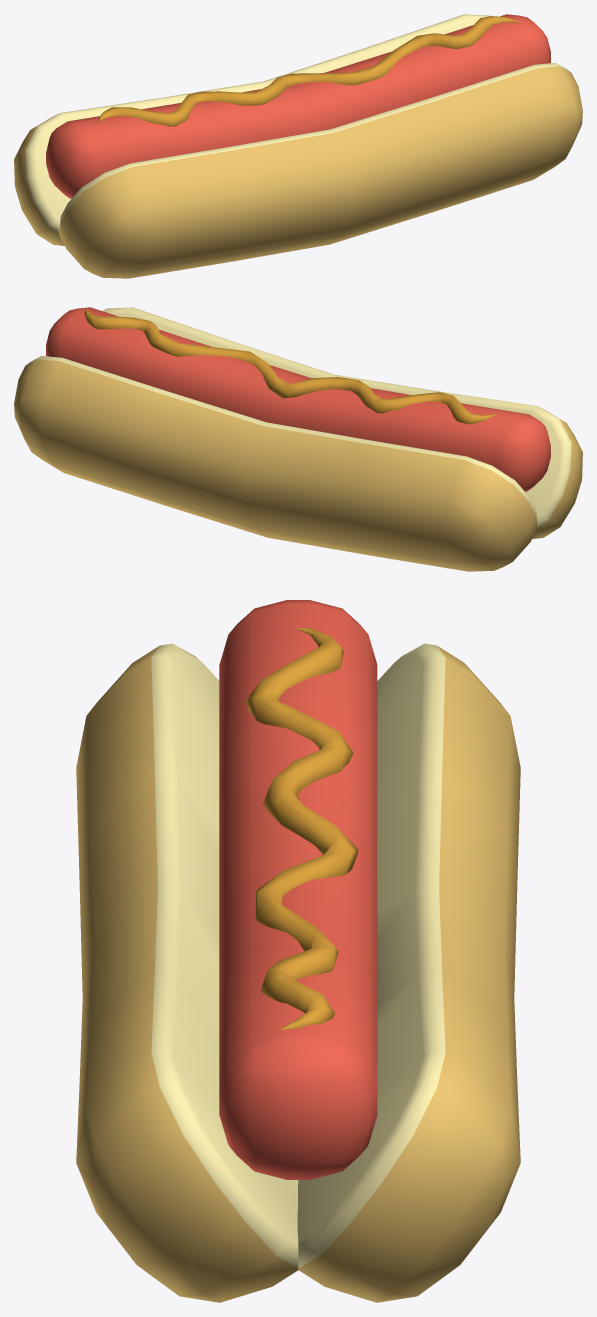
Rendered from Sausage.fbx.
3 renders of one model, top to bottom at view 1: azimuth 30°, elevation 25°; view 2: azimuth 150°, elevation 25°; view 3: azimuth 270°, elevation 25°, orthographic. The views are drawn at different scales.
Visible parts, largest first — view 1: Cube.157, Cube.158, Cube.156, BezierCurve.003; view 2: Cube.156, Cube.158, Cube.157, BezierCurve.003; view 3: Cube.156, Cube.157, Cube.158, BezierCurve.003.
Boxes of the visible parts, bbox=[...] form: Cube.157: bbox=[59, 62, 582, 278]; Cube.158: bbox=[46, 14, 550, 198]; Cube.156: bbox=[14, 14, 490, 245]; BezierCurve.003: bbox=[99, 16, 517, 126]; Cube.156: bbox=[14, 355, 537, 571]; Cube.158: bbox=[46, 307, 550, 491]; Cube.157: bbox=[102, 307, 582, 538]; BezierCurve.003: bbox=[84, 309, 496, 424]; Cube.156: bbox=[297, 643, 520, 1302]; Cube.157: bbox=[76, 643, 298, 1302]; Cube.158: bbox=[219, 600, 377, 1179]; BezierCurve.003: bbox=[245, 628, 358, 1030].
Size of the model in its own units: 64.67 by 19.5 by 24.8.
